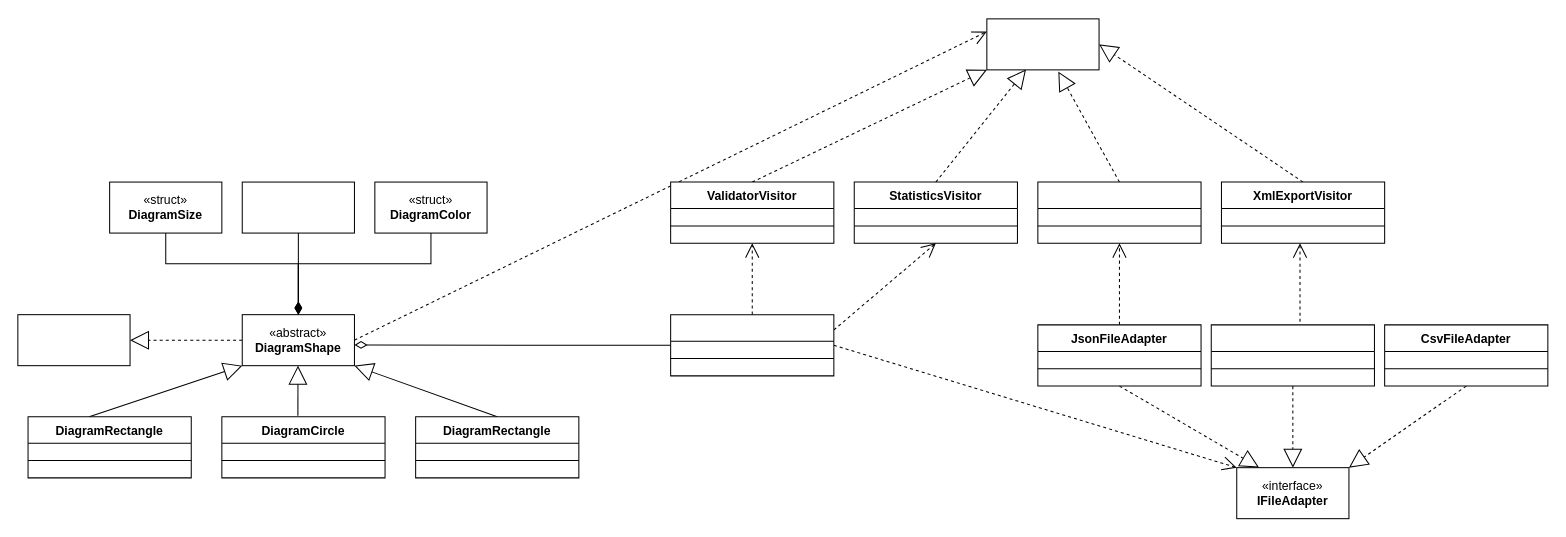
The diagram is 1566 pixels wide and 537 high, and some of its shapes have lost their labels. Here are the shapes that lost their labels. From the top down, the centre of each, then its label:
At (1042,44): "«interface» IShapeVisitor".
At (297,207): "«struct» Point".
At (1119,212): "JsonExporVisitor".
At (73,340): "«interface» IPrototype".
At (752,345): "MainWindow".
At (1292,355): "XmlFileAdapter".
